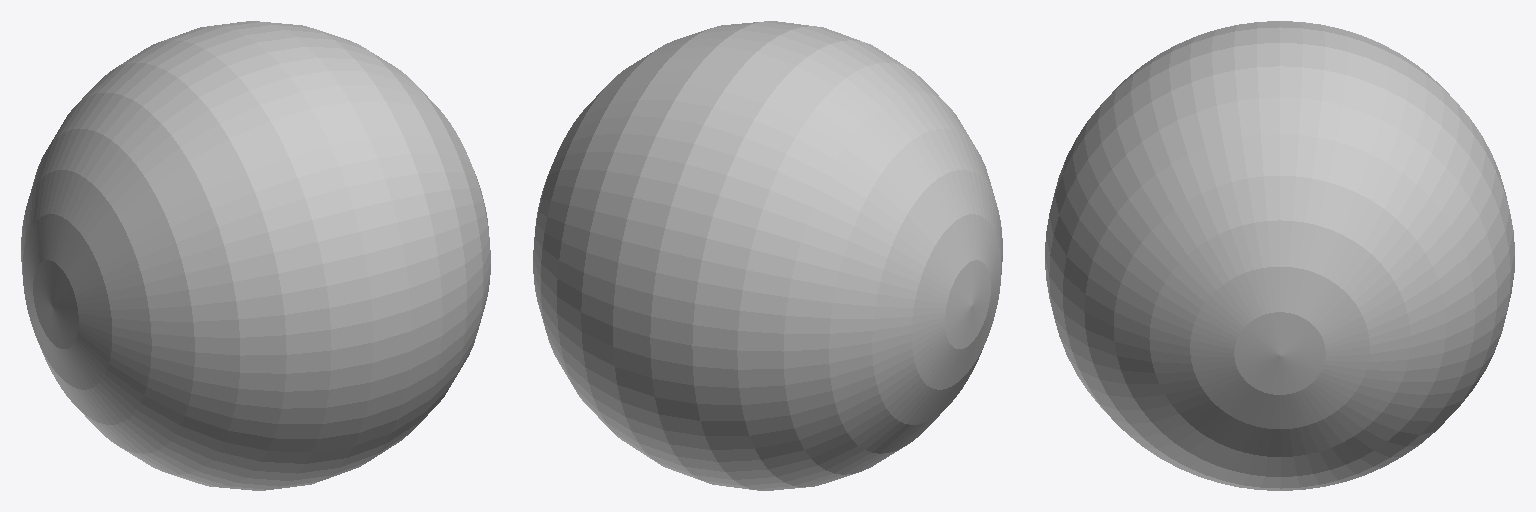
File: venusBuilt.obj
The picture shows the model from 3 angles: view 1: azimuth 30°, elevation 25°; view 2: azimuth 150°, elevation 25°; view 3: azimuth 270°, elevation 25°; orthographic projection.
Parts seen in each view (by area): view 1: Plane; view 2: Plane; view 3: Plane.
Boxes of the visible parts, x1=… form: Plane: x1=21, y1=21, x2=490, y2=490; Plane: x1=533, y1=21, x2=1002, y2=490; Plane: x1=1045, y1=21, x2=1514, y2=490.
Bounding box in the file's own units: 1.27 × 1.27 × 1.27.